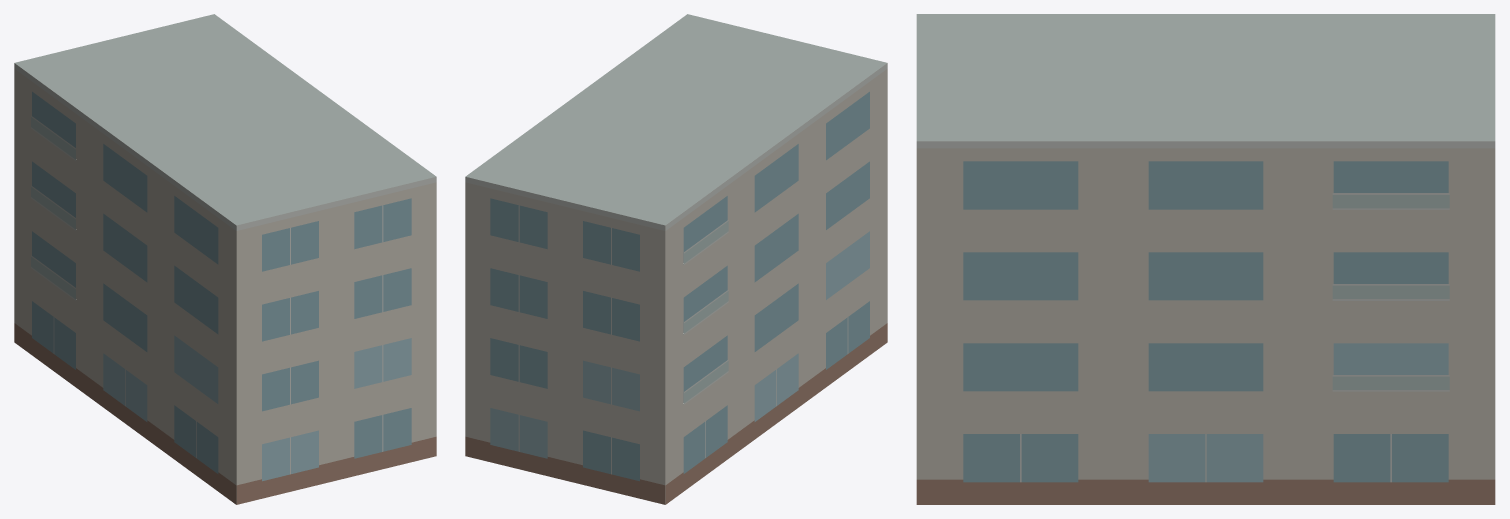
File: residential-bd987b49-dcd8-45c2-9bbc-4df9a23b9e1e.glb
3 views of the same model, side by side, from view 1: azimuth 30°, elevation 25°; view 2: azimuth 150°, elevation 25°; view 3: azimuth 270°, elevation 25° (orthographic). The views are drawn at different scales.
Visible parts, largest first — view 1: residential-bd987b49-dcd8-45c2-9bbc-4df9a23b9e1e.tmp; view 2: residential-bd987b49-dcd8-45c2-9bbc-4df9a23b9e1e.tmp; view 3: residential-bd987b49-dcd8-45c2-9bbc-4df9a23b9e1e.tmp.
Part boxes in pixels (x1,y1,x2,y2): residential-bd987b49-dcd8-45c2-9bbc-4df9a23b9e1e.tmp: (14,14,436,504); residential-bd987b49-dcd8-45c2-9bbc-4df9a23b9e1e.tmp: (465,14,887,504); residential-bd987b49-dcd8-45c2-9bbc-4df9a23b9e1e.tmp: (916,14,1495,504).
Size of the model in its own units: 9.23 by 12.2 by 17.61.
